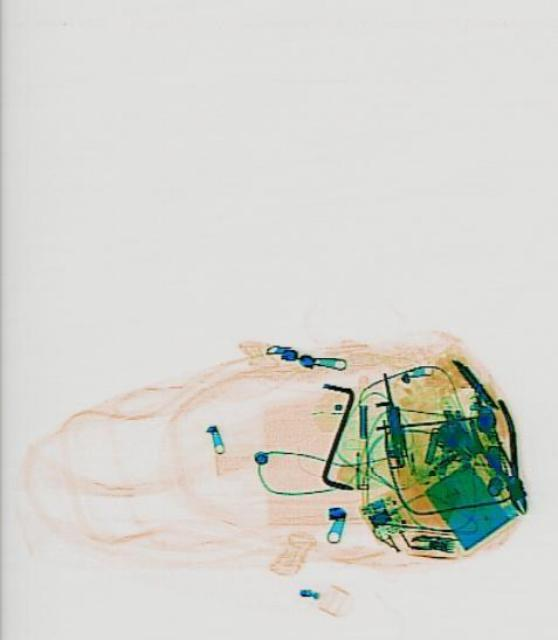Pliers: (461, 396, 543, 520)
